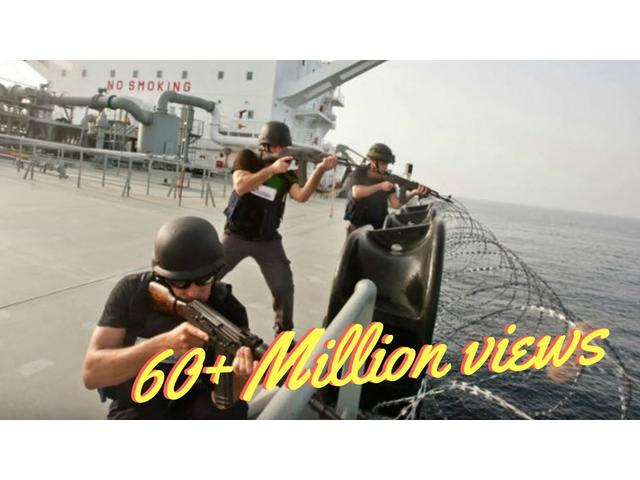rifle: (151, 279, 272, 358), (366, 167, 460, 214), (257, 146, 366, 185)
